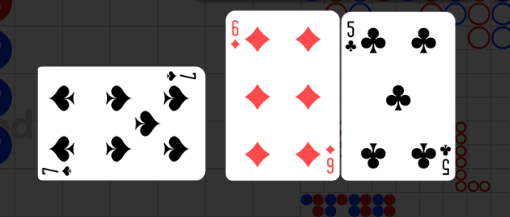5C: (438, 142, 452, 176)
6D: (229, 19, 241, 51)
7S: (41, 164, 74, 177)
